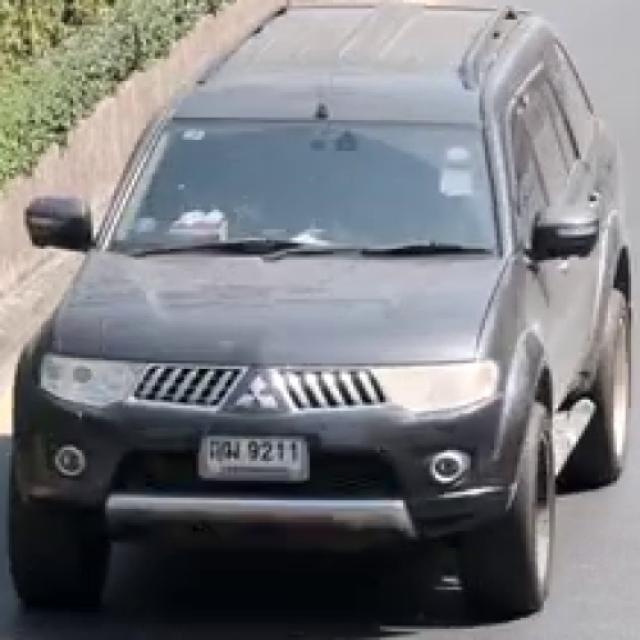plate: (202, 436, 309, 478)
